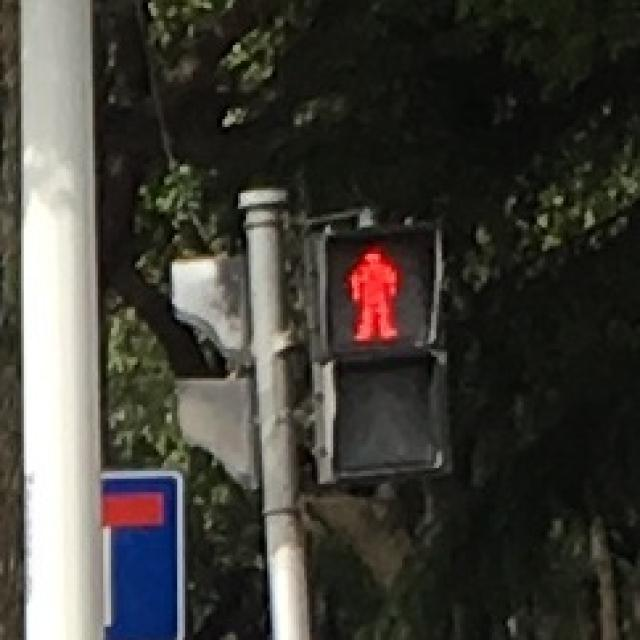red-crossing: (322, 238, 418, 346)
